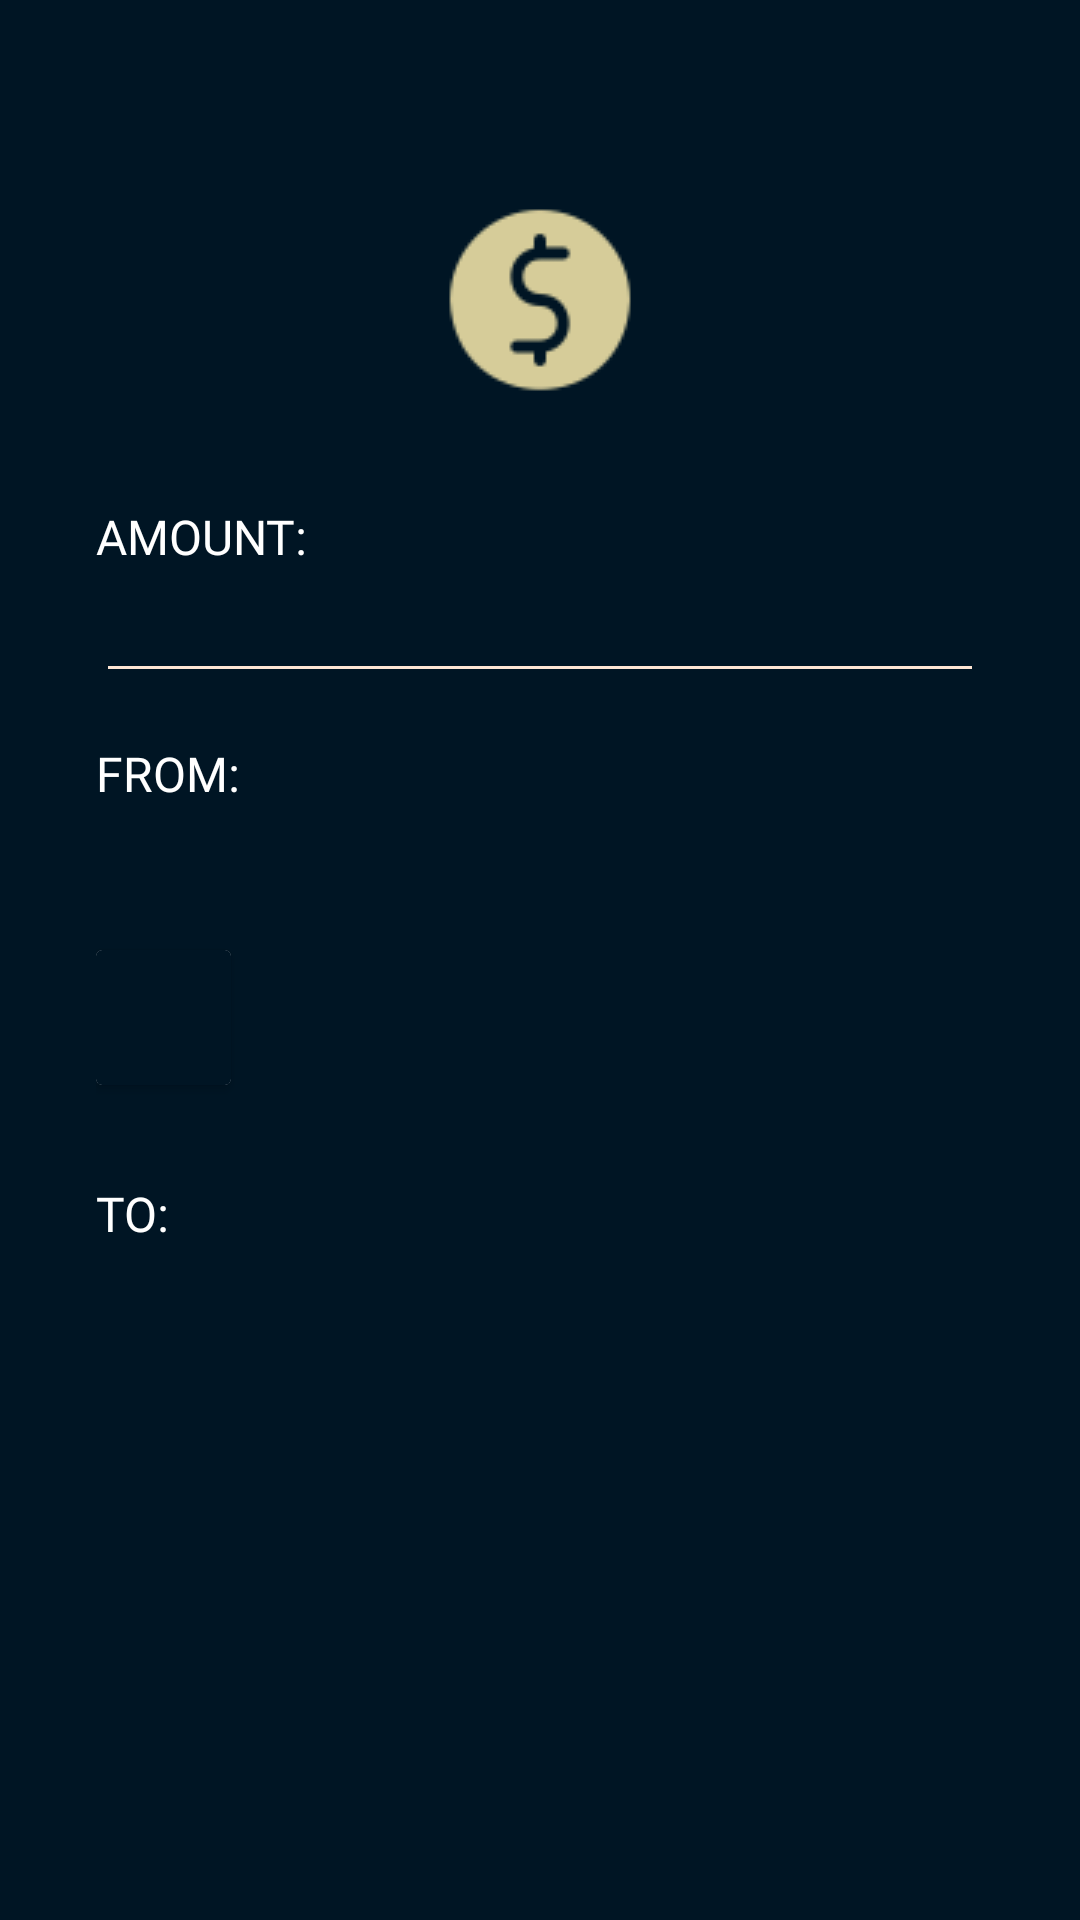

Icon bounding boxes for this 1080w x 1920h phone screenshot, format (x1, y1, x2, y2):
dolares: (449, 209, 631, 391)
